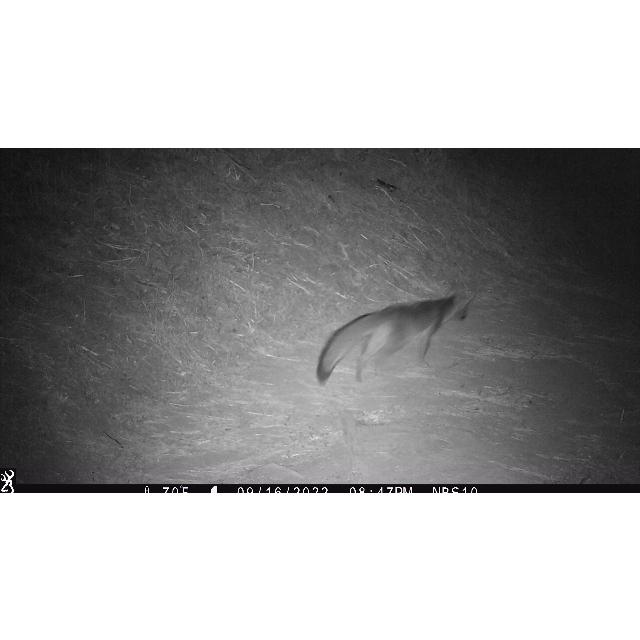animals: (316, 292, 478, 388)
